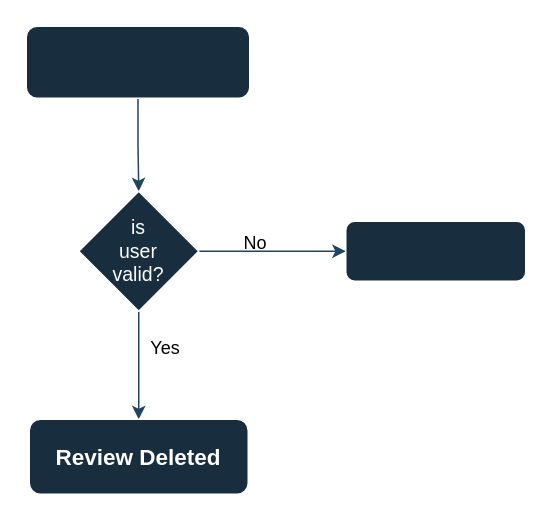
This 552x521 diagram has some shape labels left out. Here are the shapes that lost their labels. From the top down, the centre of each, then its label:
At [137,61]: "Delete Review".
At [435,250]: "Invalid user".
